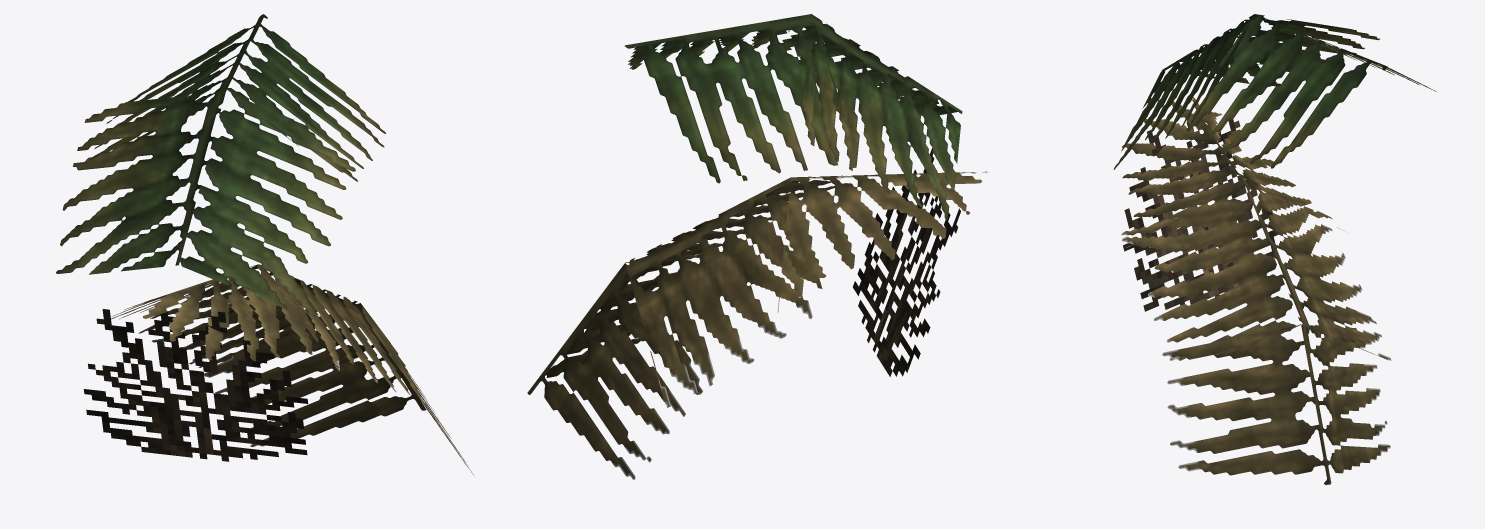
The model's file is caribbean_royal_palm_old_corner_2.obj.
The picture shows the model from 3 angles, left to right: view 1: azimuth 30°, elevation 25°; view 2: azimuth 150°, elevation 25°; view 3: azimuth 270°, elevation 25°; orthographic projection. The views are drawn at different scales.
Visible parts, largest first — view 1: cube.406; view 2: cube.406; view 3: cube.406.
Boxes of the visible parts, x1=… form: cube.406: x1=56, y1=14, x2=473, y2=475; cube.406: x1=527, y1=14, x2=987, y2=479; cube.406: x1=1113, y1=14, x2=1436, y2=485.
Size of the model in its own units: 3 by 3.17 by 2.87.
